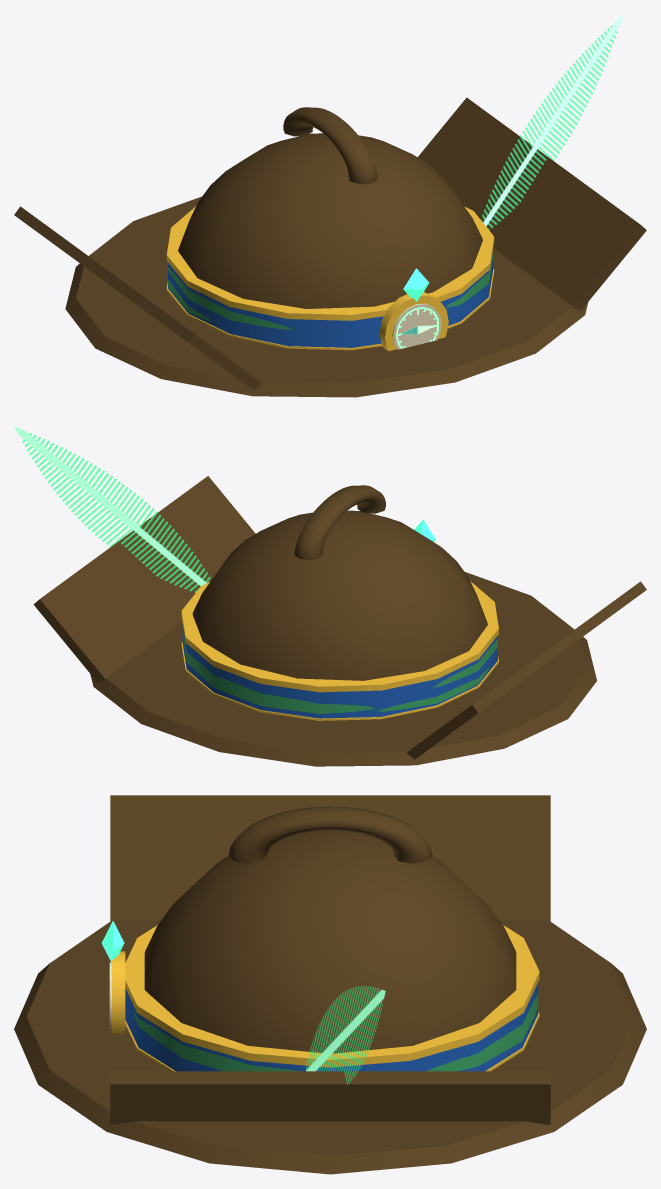
Rendered from hat_eqsa4.glb.
3 views of the same model, one above another, from view 1: azimuth 30°, elevation 25°; view 2: azimuth 150°, elevation 25°; view 3: azimuth 270°, elevation 25° (orthographic). The views are drawn at different scales.
Bounding box in the file's own units: 4.24 × 1.42 × 3.33.
6 materials, 3 textured.
